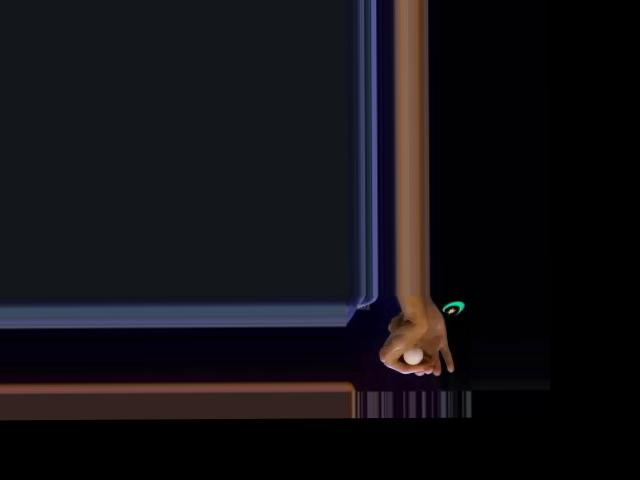egg: (402, 349, 423, 365)
